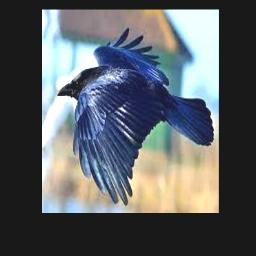Crow: (57, 27, 215, 206)
